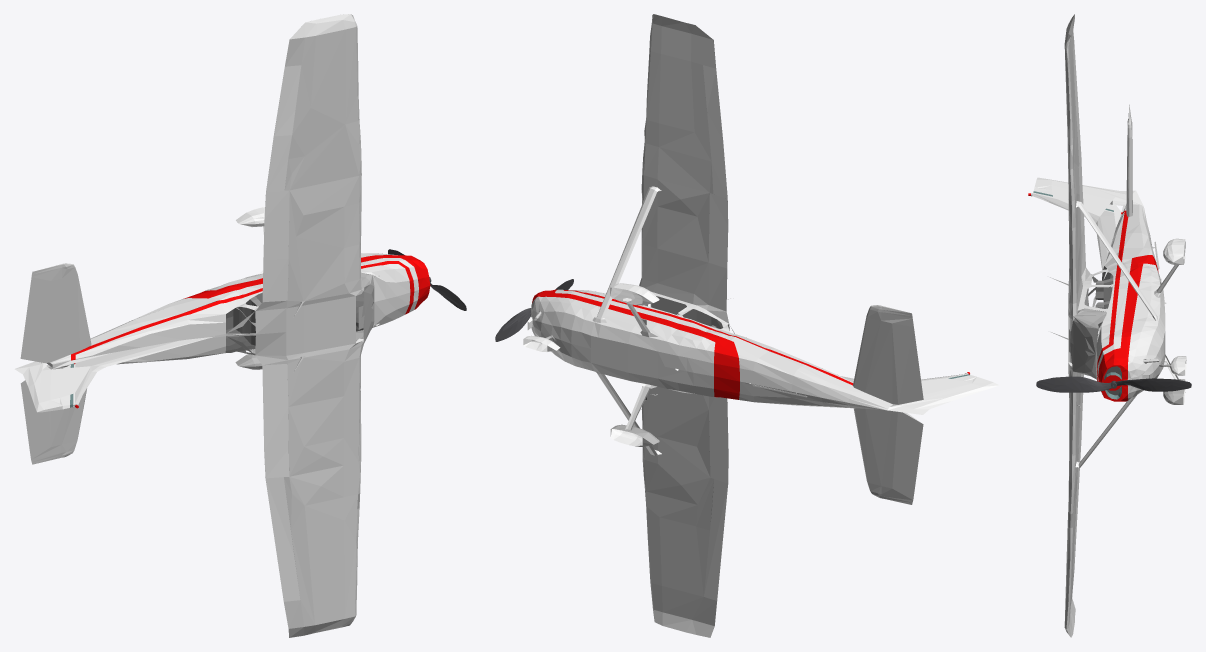
The picture shows the model from 3 angles, left to right: view 1: azimuth 30°, elevation 25°; view 2: azimuth 150°, elevation 25°; view 3: azimuth 270°, elevation 25°; orthographic projection.
Visible parts, largest first — view 1: part9, part1, part6, part2, part7, part5, part10; view 2: part9, part6, part1, part2, part7, part3; view 3: part6, part9, part1, part7, part5, part0, part2, part3, part10, part4.
Boxes of the visible parts, left/top/right/bottom form: part9: left=75, top=14, right=364, bottom=637; part1: left=14, top=65, right=379, bottom=601; part6: left=50, top=253, right=418, bottom=367; part2: left=20, top=263, right=91, bottom=464; part7: left=71, top=255, right=430, bottom=364; part5: left=226, top=273, right=374, bottom=508; part10: left=233, top=273, right=370, bottom=345; part9: left=639, top=14, right=964, bottom=637; part6: left=530, top=289, right=892, bottom=410; part1: left=523, top=65, right=999, bottom=600; part2: left=853, top=305, right=923, bottom=504; part7: left=532, top=289, right=853, bottom=399; part3: left=540, top=14, right=733, bottom=635; part6: left=1077, top=204, right=1165, bottom=399; part9: left=1032, top=14, right=1120, bottom=637; part1: left=1033, top=44, right=1186, bottom=574; part7: left=1097, top=210, right=1158, bottom=401; part5: left=1068, top=276, right=1106, bottom=528; part0: left=1036, top=376, right=1191, bottom=392; part2: left=1126, top=105, right=1132, bottom=216; part3: left=1050, top=137, right=1185, bottom=635; part10: left=1095, top=278, right=1147, bottom=362; part4: left=1088, top=266, right=1159, bottom=395.
Size of the model in its own units: 0.8127 by 1.1 by 0.2707.
